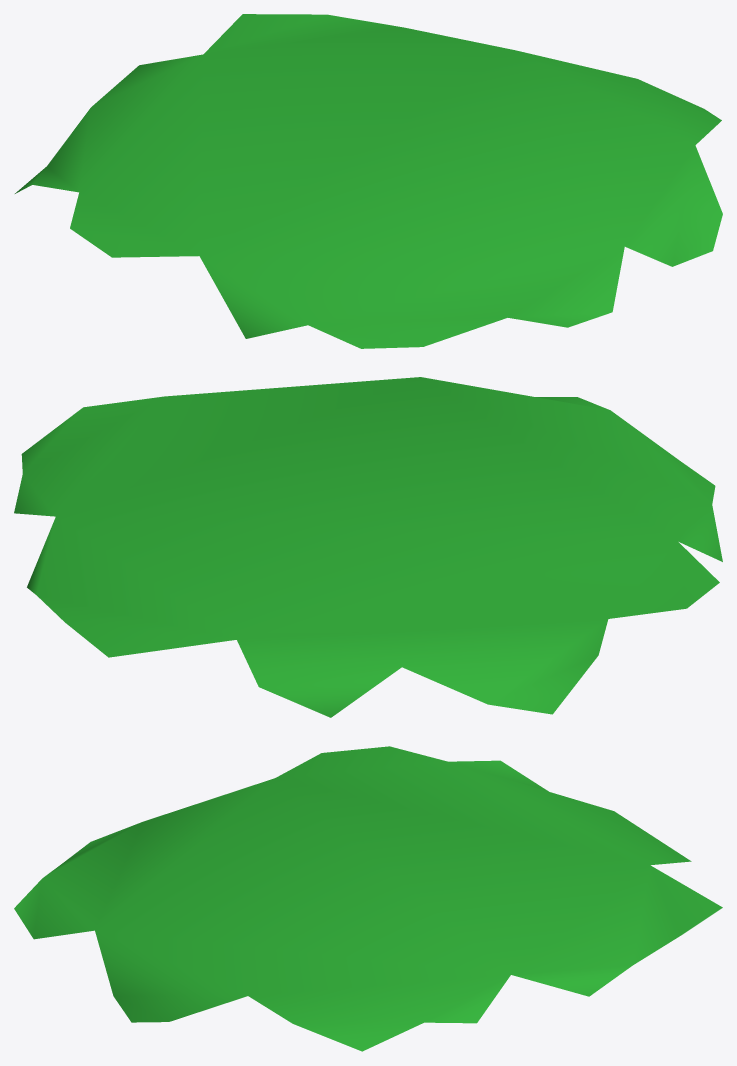
Rendered from листсалата.fbx.
3 views of the same model, one above another, from view 1: azimuth 30°, elevation 25°; view 2: azimuth 150°, elevation 25°; view 3: azimuth 270°, elevation 25° (orthographic). The views are drawn at different scales.
Parts seen in each view (by area): view 1: лист салата; view 2: лист салата; view 3: лист салата.
Part boxes in pixels (<box>): лист салата: <box>15,14,722,348</box>; лист салата: <box>14,377,722,717</box>; лист салата: <box>14,746,722,1051</box>.
Bounding box in the file's own units: 22.75 × 2.04 × 23.9.
